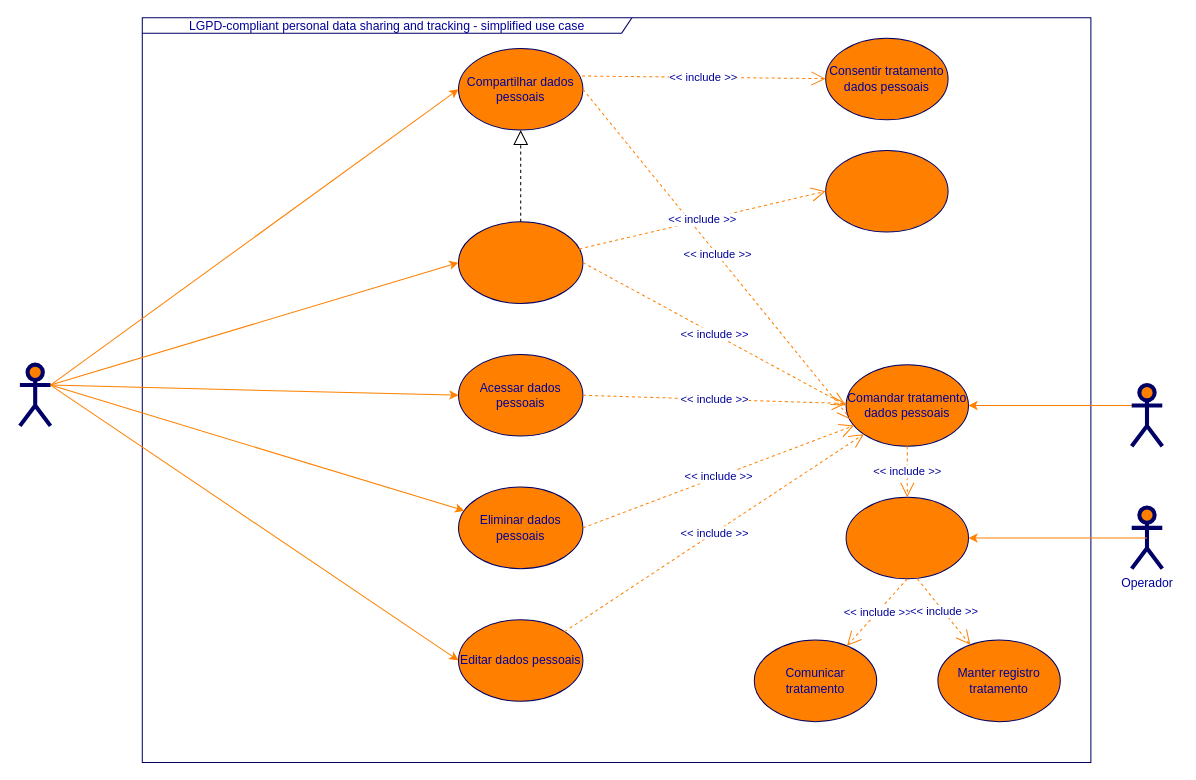
This 1196x780 diagram has some shape labels left out. Each missing label, with the centre of its shape:
Compartilhar dados pessoais SENSÍVEIS: (x=520, y=262)
Consentir tratamento dados pessoais SENSÍVEIS: (x=886, y=190)
Controlador: (x=1146, y=415)
Titular: (x=34, y=394)
Tratar dados pessoais: (x=906, y=537)
